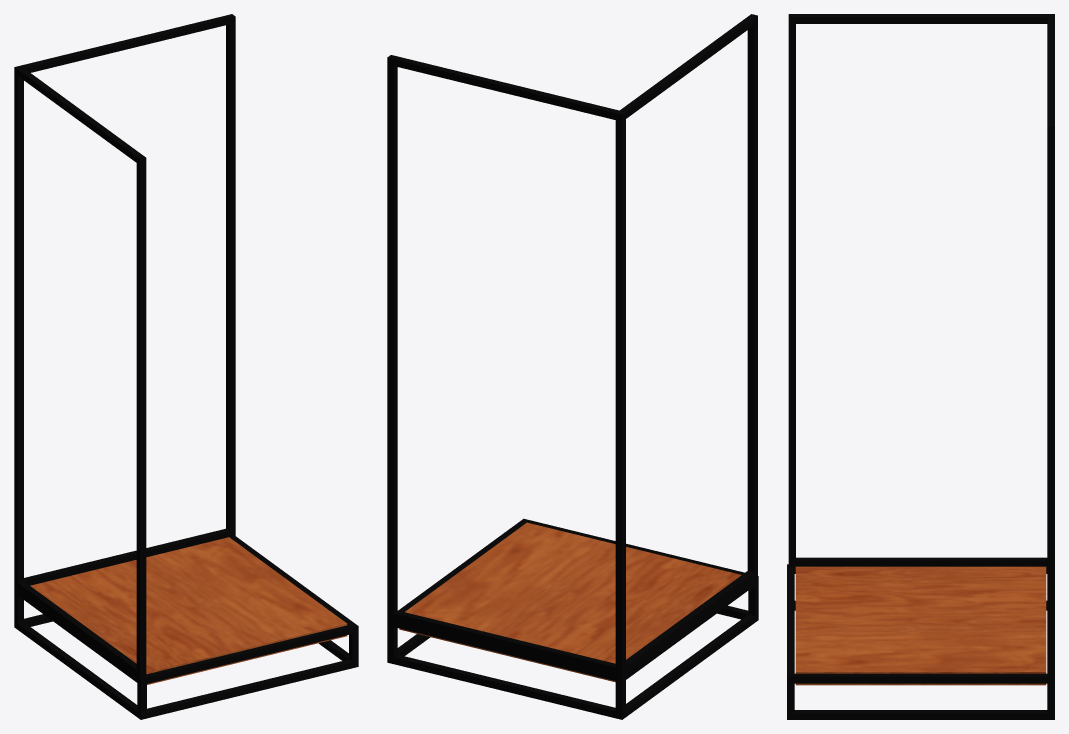
The model's file is Shelf_02_a_Art.fbx.
3 renders of one model, left to right at view 1: azimuth 30°, elevation 25°; view 2: azimuth 150°, elevation 25°; view 3: azimuth 270°, elevation 25°, orthographic. The views are drawn at different scales.
Visible parts, largest first — view 1: Shelf_02_a; view 2: Shelf_02_a; view 3: Shelf_02_a.
Part boxes in pixels (<box>): Shelf_02_a: <box>14,14,358,719</box>; Shelf_02_a: <box>387,14,758,719</box>; Shelf_02_a: <box>787,14,1054,719</box>.
Bounding box in the file's own units: 89.5 × 220 × 90.
